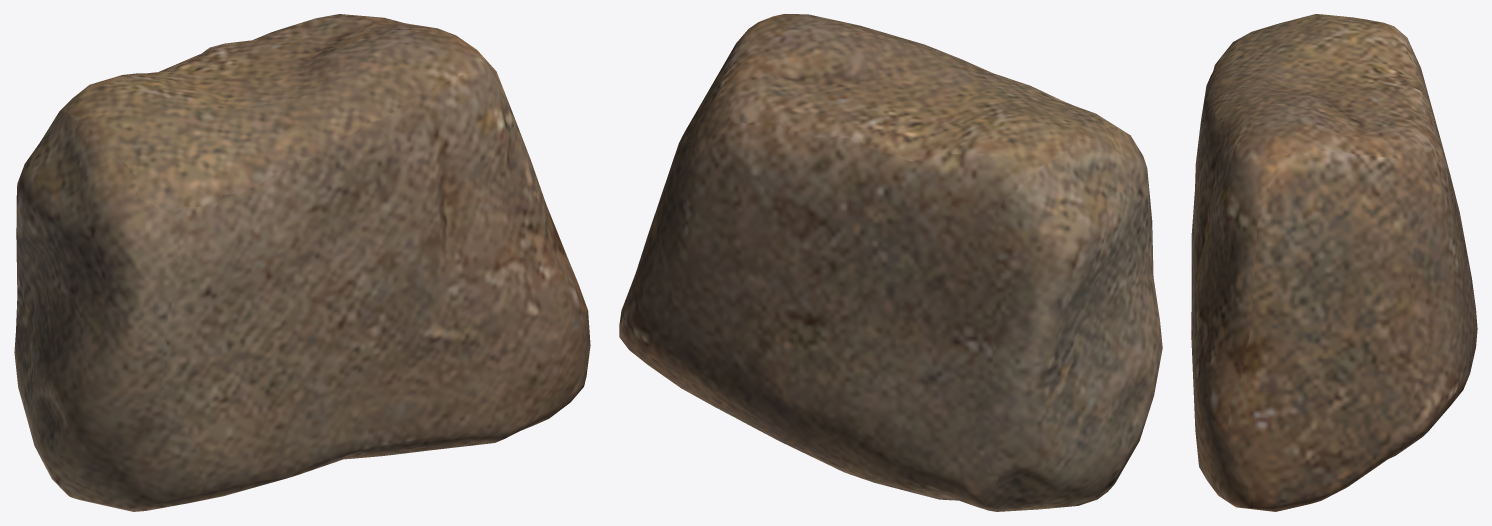
File: SM_For_Sca_Rock_Set_01_E.gltf
3 views of the same model, side by side, from view 1: azimuth 30°, elevation 25°; view 2: azimuth 150°, elevation 25°; view 3: azimuth 270°, elevation 25° (orthographic). The views are drawn at different scales.
Parts seen in each view (by area): view 1: SM_For_Sca_Rock_Set_01_E; view 2: SM_For_Sca_Rock_Set_01_E; view 3: SM_For_Sca_Rock_Set_01_E.
Part boxes in pixels (bbox=[...]): SM_For_Sca_Rock_Set_01_E: bbox=[14, 14, 590, 511]; SM_For_Sca_Rock_Set_01_E: bbox=[619, 14, 1162, 511]; SM_For_Sca_Rock_Set_01_E: bbox=[1191, 14, 1477, 511].
Size of the model in its own units: 0.1206 by 0.0905 by 0.0657.
1 material, 1 textured.
